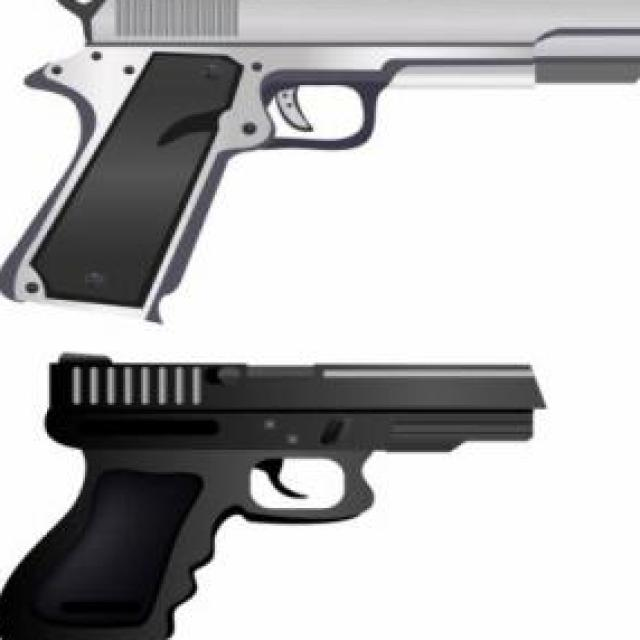pistol: (0, 0, 640, 313), (0, 353, 539, 640)
